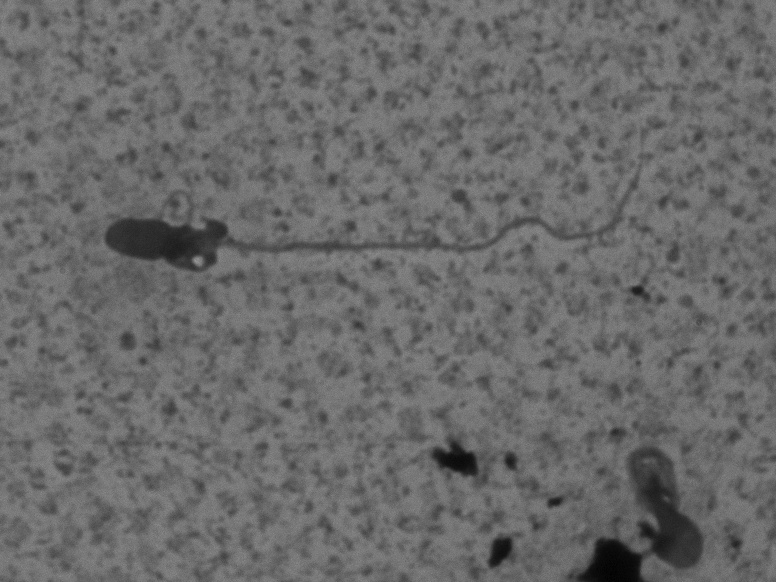Abnormal: (65, 156, 685, 292)
